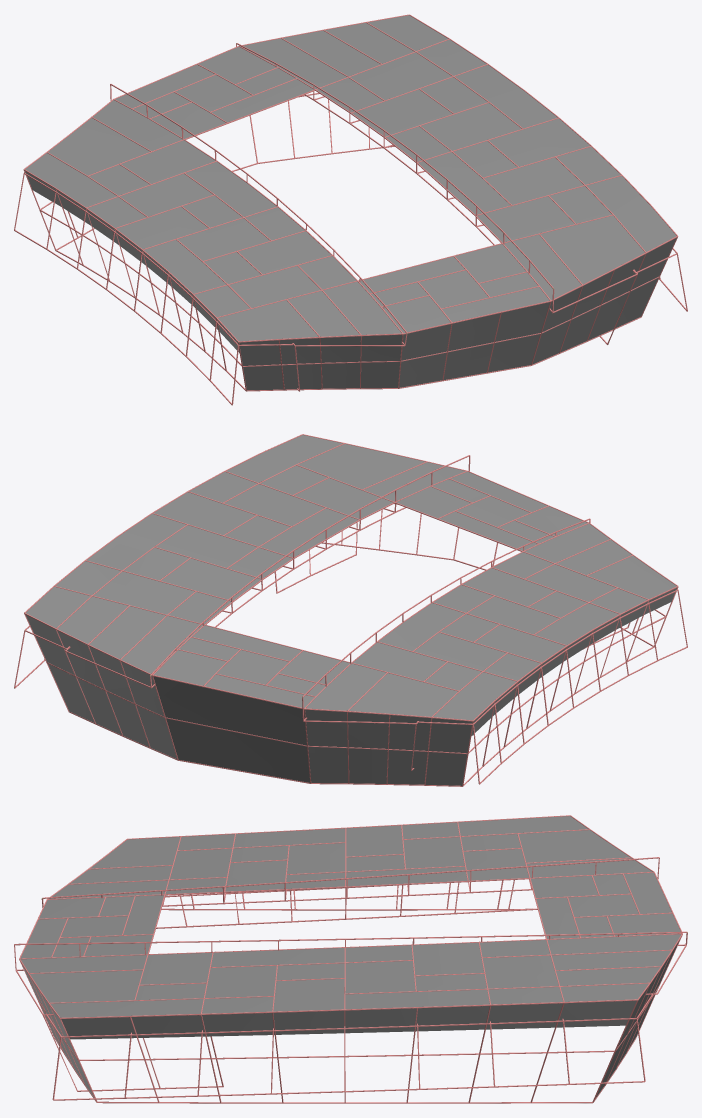
Rendered from Roof_Boxy.gltf.
3 renders of one model, top to bottom at view 1: azimuth 30°, elevation 25°; view 2: azimuth 150°, elevation 25°; view 3: azimuth 270°, elevation 25°, orthographic. The views are drawn at different scales.
Visible parts, largest first — view 1: Roof_Boxy; view 2: Roof_Boxy; view 3: Roof_Boxy.
Boxes of the visible parts, left/top/right/bottom form: Roof_Boxy: left=14, top=14, right=687, bottom=405; Roof_Boxy: left=14, top=434, right=687, bottom=786; Roof_Boxy: left=14, top=815, right=687, bottom=1103.
Bounding box in the file's own units: 339 × 87.53 × 421.
